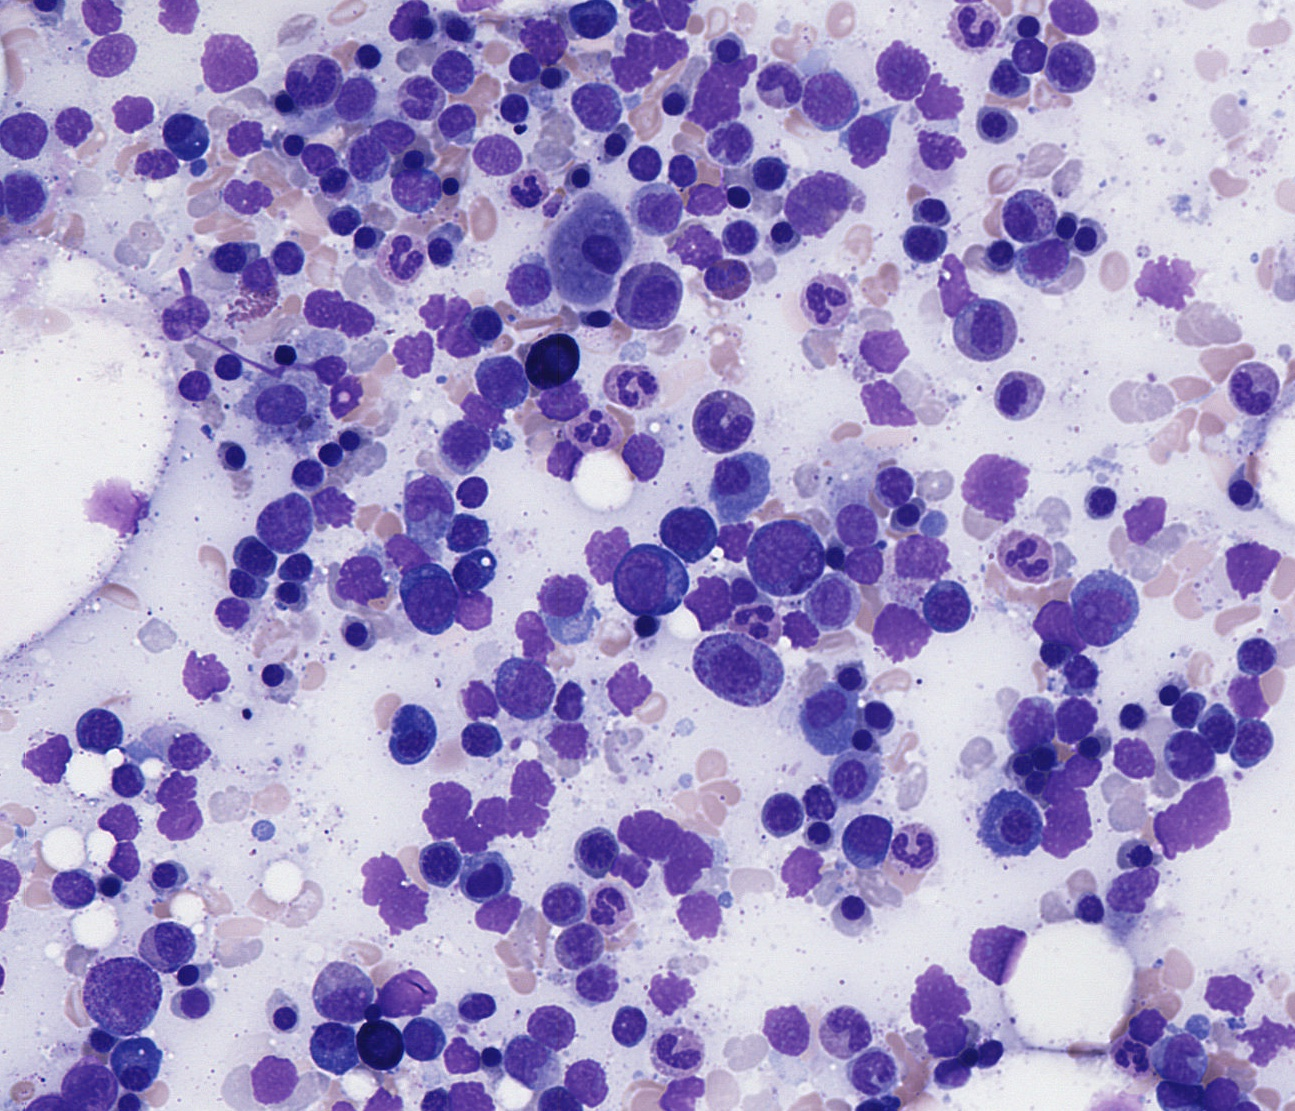objectness: (705, 115, 755, 165), (400, 74, 450, 124), (597, 358, 647, 409), (625, 270, 676, 320), (1071, 586, 1122, 636), (148, 761, 198, 812), (454, 386, 504, 437), (1138, 258, 1188, 308), (683, 573, 733, 623), (331, 291, 382, 341), (162, 717, 213, 767), (179, 649, 230, 699), (1182, 782, 1232, 832), (429, 312, 480, 362), (312, 151, 362, 201), (95, 835, 145, 885), (157, 288, 208, 339), (617, 431, 667, 481), (964, 455, 1014, 505), (451, 673, 502, 723), (477, 891, 527, 941), (919, 126, 970, 176), (542, 431, 592, 481), (855, 313, 905, 363), (910, 968, 960, 1019), (1191, 706, 1242, 756), (429, 42, 480, 92), (499, 39, 549, 89), (345, 31, 395, 81), (70, 705, 121, 755), (1106, 694, 1156, 744), (1062, 213, 1112, 263), (1076, 477, 1127, 527), (216, 562, 266, 612), (757, 529, 807, 579), (109, 1053, 159, 1103), (304, 1011, 353, 1061), (704, 451, 754, 501), (799, 680, 849, 731), (1156, 1031, 1206, 1081), (791, 273, 841, 323), (727, 590, 777, 640), (994, 531, 1044, 581), (948, 8, 998, 58), (319, 974, 369, 1025), (1041, 43, 1091, 92), (995, 190, 1045, 241), (229, 259, 279, 309), (1225, 367, 1274, 417), (826, 1003, 877, 1053), (845, 806, 895, 856), (617, 133, 667, 183), (509, 756, 559, 806), (711, 50, 761, 100), (614, 20, 664, 70), (1151, 808, 1201, 858), (583, 522, 633, 571), (534, 878, 584, 928), (929, 259, 979, 309), (792, 778, 842, 828), (168, 976, 218, 1026), (1031, 593, 1081, 643), (379, 885, 429, 935), (906, 74, 956, 124), (84, 32, 134, 81), (409, 286, 459, 336), (1124, 998, 1174, 1048), (443, 549, 493, 599), (157, 798, 208, 848), (488, 789, 538, 839), (1006, 30, 1056, 80), (429, 286, 480, 336), (842, 540, 892, 590), (461, 792, 511, 842), (94, 797, 144, 847), (652, 847, 701, 897), (1104, 865, 1155, 915), (390, 166, 440, 216), (204, 588, 254, 638), (631, 182, 681, 232), (570, 956, 620, 1006), (1054, 649, 1104, 698), (516, 15, 567, 65), (324, 415, 374, 465), (538, 716, 588, 766), (165, 358, 215, 409), (716, 567, 766, 617), (1046, 685, 1096, 736), (360, 848, 410, 898), (331, 557, 382, 607), (387, 965, 436, 1015), (59, 1060, 110, 1110), (290, 130, 340, 179), (100, 92, 150, 143), (46, 105, 96, 155), (1038, 804, 1088, 854), (500, 257, 549, 307), (445, 810, 496, 860), (1201, 968, 1251, 1019), (575, 228, 625, 277), (706, 513, 757, 563), (925, 1055, 975, 1105), (624, 803, 674, 853), (897, 527, 948, 577), (688, 70, 738, 121), (601, 660, 651, 710), (13, 736, 63, 786), (390, 322, 440, 371), (453, 980, 503, 1030), (367, 108, 417, 157), (471, 129, 521, 179), (751, 794, 801, 845), (254, 378, 304, 428), (331, 70, 381, 121), (744, 150, 794, 200), (802, 70, 852, 120), (868, 459, 918, 509), (601, 1000, 651, 1050), (428, 95, 478, 145), (489, 83, 538, 133), (281, 450, 331, 500), (415, 225, 465, 275), (793, 809, 844, 859), (975, 230, 1025, 280), (209, 431, 259, 481), (467, 1033, 516, 1083), (1145, 671, 1195, 721), (227, 534, 277, 584), (434, 3, 485, 53), (1041, 201, 1091, 251), (330, 608, 380, 658), (572, 821, 622, 871), (259, 994, 309, 1044), (981, 52, 1031, 102), (387, 718, 437, 767), (388, 133, 438, 183), (1062, 722, 1112, 772), (204, 230, 254, 280), (1161, 686, 1211, 736), (590, 115, 640, 165), (716, 209, 766, 259), (995, 739, 1045, 789), (758, 208, 808, 258), (551, 154, 601, 204), (1064, 882, 1114, 932), (275, 541, 325, 591), (826, 654, 877, 704), (921, 581, 971, 631), (1029, 627, 1078, 677), (268, 119, 318, 168), (83, 862, 133, 912), (244, 650, 294, 700), (647, 76, 698, 126), (1217, 468, 1267, 518), (905, 182, 955, 232), (1117, 830, 1167, 880), (1011, 763, 1062, 813), (838, 716, 888, 766), (460, 302, 510, 352), (99, 966, 149, 1016), (153, 102, 203, 152), (992, 800, 1042, 850), (844, 1045, 893, 1094), (501, 1036, 551, 1086), (634, 185, 684, 235), (503, 167, 553, 217), (371, 239, 421, 288), (647, 1027, 697, 1077), (1111, 1025, 1161, 1075), (565, 396, 614, 446), (579, 884, 629, 934), (892, 832, 942, 882), (961, 304, 1011, 353), (554, 921, 603, 970), (144, 921, 194, 970), (710, 644, 760, 694), (707, 254, 757, 304), (686, 407, 736, 457), (287, 65, 337, 115), (755, 56, 805, 106), (990, 373, 1040, 423), (406, 577, 456, 627), (500, 668, 549, 718), (252, 1056, 302, 1105), (668, 882, 718, 932), (437, 1030, 487, 1079), (525, 1002, 575, 1052), (838, 113, 888, 163), (1120, 493, 1169, 543), (295, 276, 345, 326), (1055, 744, 1104, 794), (131, 141, 181, 190), (435, 418, 485, 468), (1112, 729, 1162, 778), (970, 1028, 1020, 1078), (646, 23, 696, 73), (776, 602, 826, 652), (217, 111, 266, 161), (602, 849, 652, 898), (873, 611, 923, 661), (873, 46, 923, 96), (670, 219, 719, 269), (1018, 233, 1067, 283), (808, 579, 858, 629), (317, 370, 367, 420), (670, 222, 719, 272), (763, 1005, 813, 1055), (916, 1004, 966, 1054), (319, 198, 369, 248), (1012, 698, 1062, 748), (202, 34, 251, 84), (504, 612, 554, 662), (307, 428, 357, 478), (447, 590, 497, 640), (546, 678, 596, 728), (787, 177, 837, 227), (609, 46, 659, 96), (664, 823, 714, 872), (679, 176, 729, 226), (308, 484, 358, 534), (566, 1059, 616, 1109), (852, 373, 902, 423), (533, 375, 583, 425), (821, 490, 871, 540), (381, 525, 431, 575), (656, 145, 706, 195), (643, 971, 693, 1021), (199, 341, 249, 391), (219, 178, 269, 228), (776, 840, 826, 890), (1232, 540, 1282, 589), (460, 853, 510, 903), (415, 775, 465, 825), (972, 930, 1022, 980), (393, 1013, 443, 1063), (572, 79, 621, 129), (46, 862, 96, 912), (101, 752, 151, 802), (339, 132, 389, 182), (263, 230, 313, 280), (1018, 732, 1067, 782), (855, 689, 904, 739), (143, 850, 193, 900), (417, 839, 467, 889), (829, 883, 879, 933), (1002, 0, 1052, 50), (884, 492, 934, 542), (701, 22, 751, 72), (164, 949, 214, 999), (263, 570, 313, 620), (969, 100, 1019, 150), (1232, 718, 1282, 767), (897, 217, 947, 266), (338, 211, 388, 261), (565, 0, 614, 48), (1247, 1015, 1295, 1065), (0, 110, 47, 160), (662, 1066, 712, 1111), (653, 0, 703, 44), (0, 173, 42, 224), (1151, 1070, 1201, 1111), (1195, 1070, 1245, 1111), (623, 0, 673, 41), (378, 0, 428, 40), (1049, 0, 1099, 40), (73, 0, 123, 39), (153, 0, 203, 39), (444, 1077, 494, 1111), (529, 1077, 579, 1111), (406, 1077, 456, 1111), (358, 1078, 409, 1111), (104, 1080, 153, 1111)
